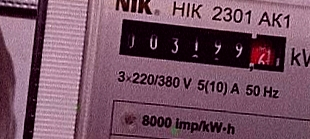0: (122, 29, 136, 50), (145, 30, 159, 51)
1: (189, 33, 201, 53)
3: (167, 35, 180, 54)
6: (256, 50, 267, 67)
9: (210, 36, 223, 56), (231, 39, 243, 59)
screen: (110, 14, 295, 80)
